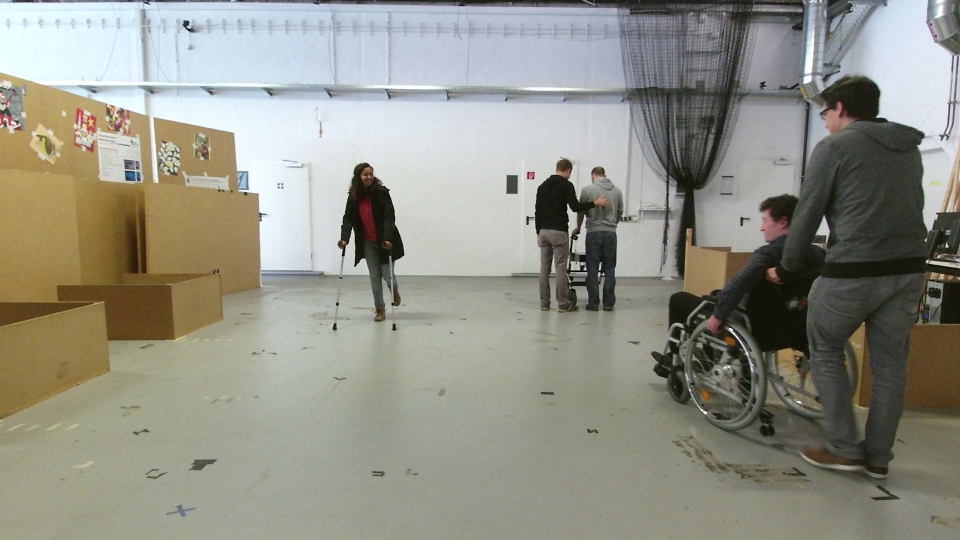crutches: (324, 160, 407, 334)
